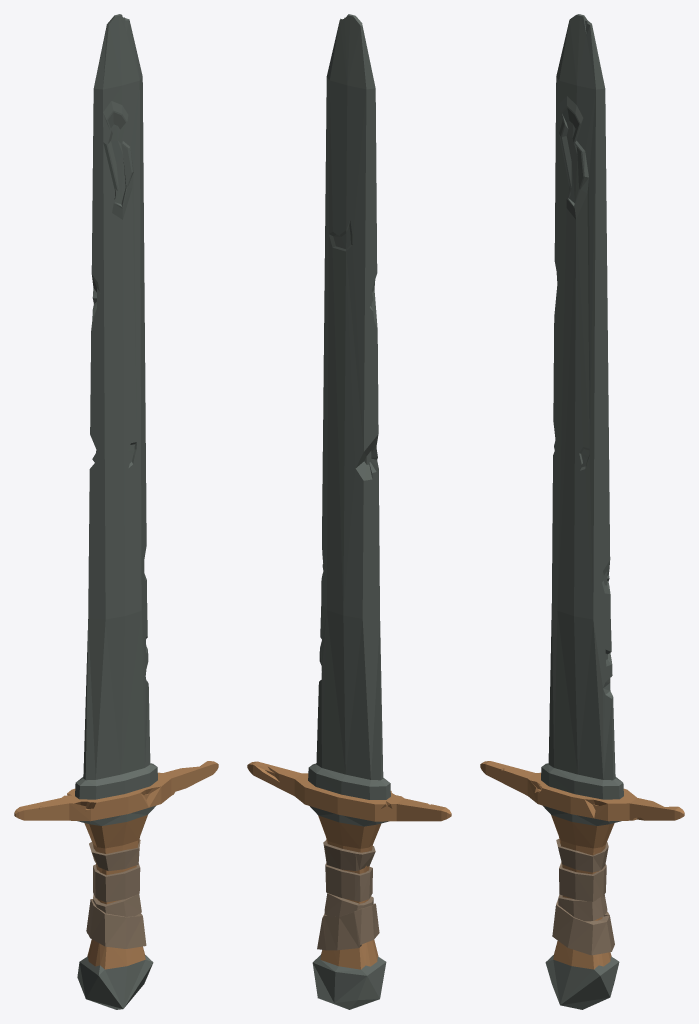
The model's file is RustySword.fbx.
3 views of the same model, side by side, from view 1: azimuth 30°, elevation 25°; view 2: azimuth 150°, elevation 25°; view 3: azimuth 330°, elevation 25° (orthographic).
Parts seen in each view (by area): view 1: RustySword; view 2: RustySword; view 3: RustySword.
Part boxes in pixels (x1,y1,x2,y2): RustySword: (14,14,218,1009); RustySword: (247,14,451,1009); RustySword: (480,14,684,1009).
Size of the model in its own units: 48.51 by 227 by 12.49.
